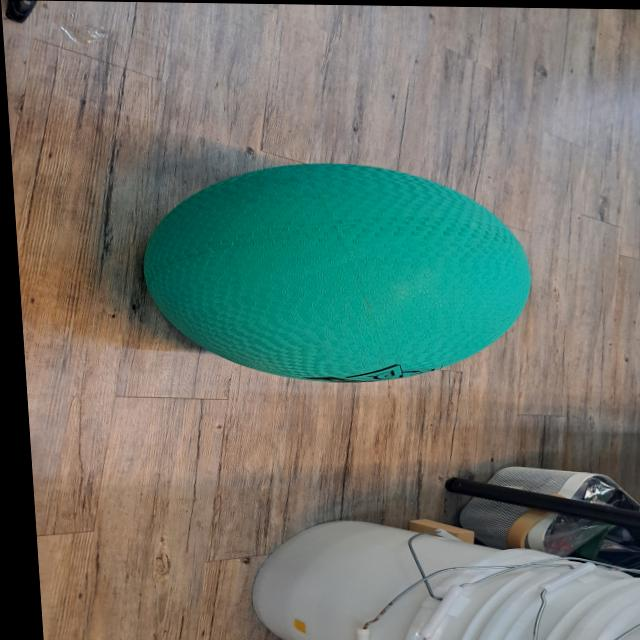ALGAE: (133, 159, 542, 387)
